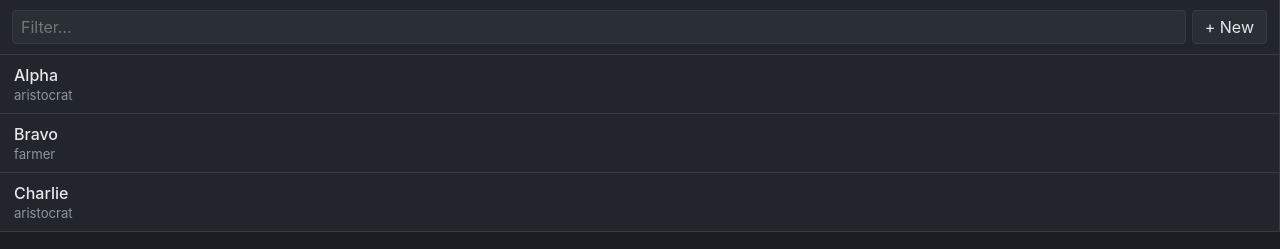
Scenario: Sidebar › filters by primary, id, and secondary
Type "farmer" into the field with placeholder "Filter…" at point(599, 27), box [12, 10, 1186, 44]
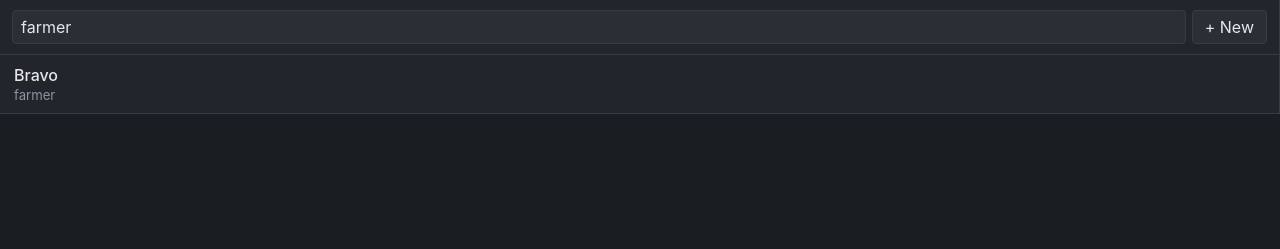
Expected: the text "Bravo" is shown, [14, 65, 58, 85]
Expected: the text "Alpha" is gone
Expected: the text "Charlie" is gone
